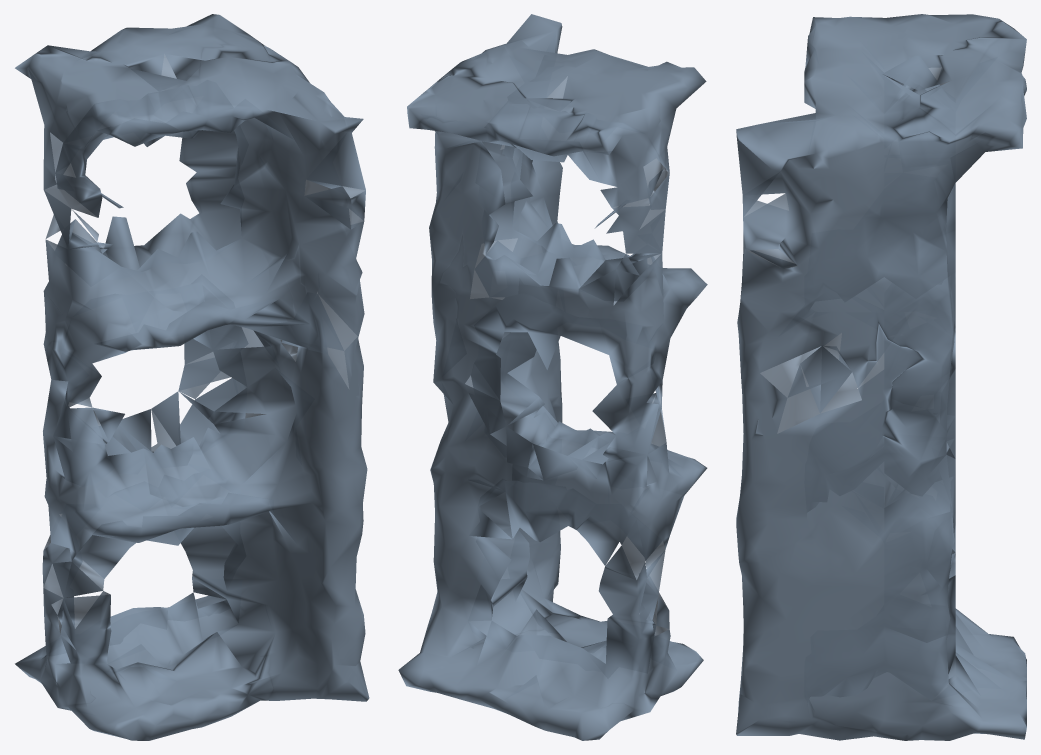
Rendered from sofa_0069_original.obj.
3 views of the same model, side by side, from view 1: azimuth 30°, elevation 25°; view 2: azimuth 150°, elevation 25°; view 3: azimuth 270°, elevation 25° (orthographic). The views are drawn at different scales.
Bounding box in the file's own units: 0.6581 × 1.76 × 0.7245.
